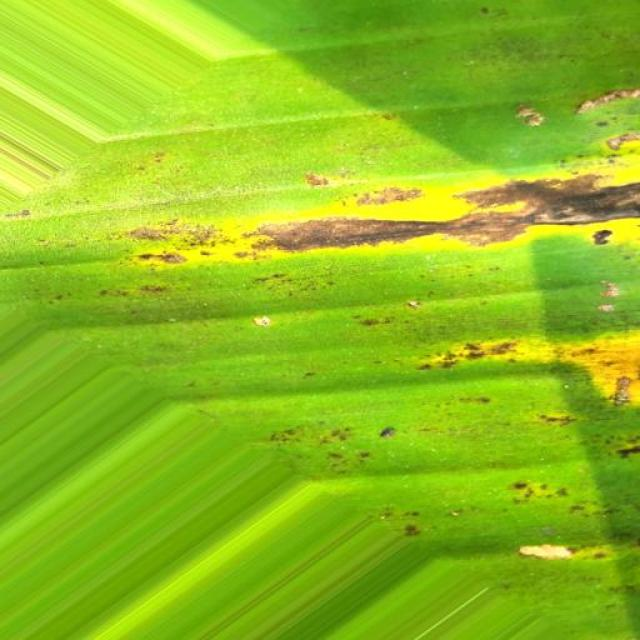Early_rust: (29, 50, 640, 577)
